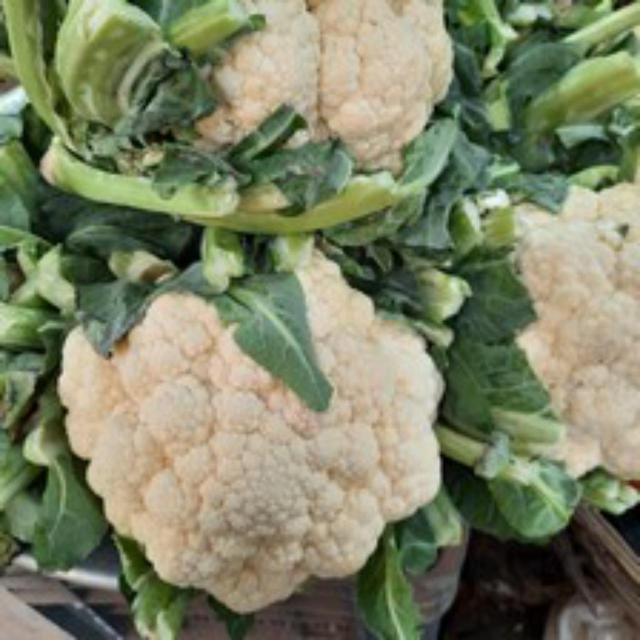cauliflower: (58, 252, 470, 620)
